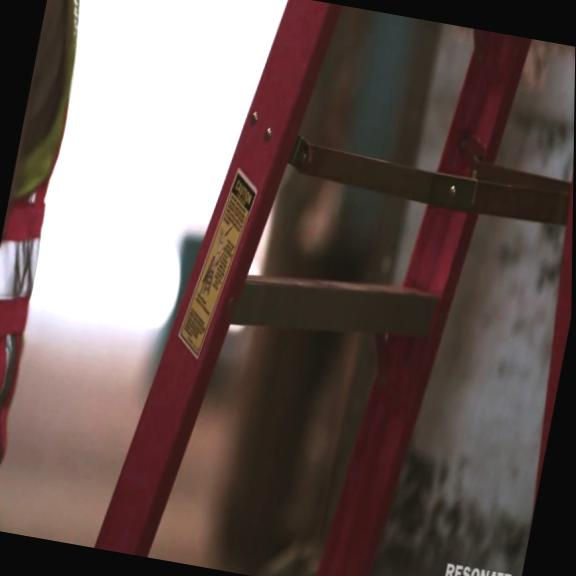safety_vest: (0, 0, 96, 484)
